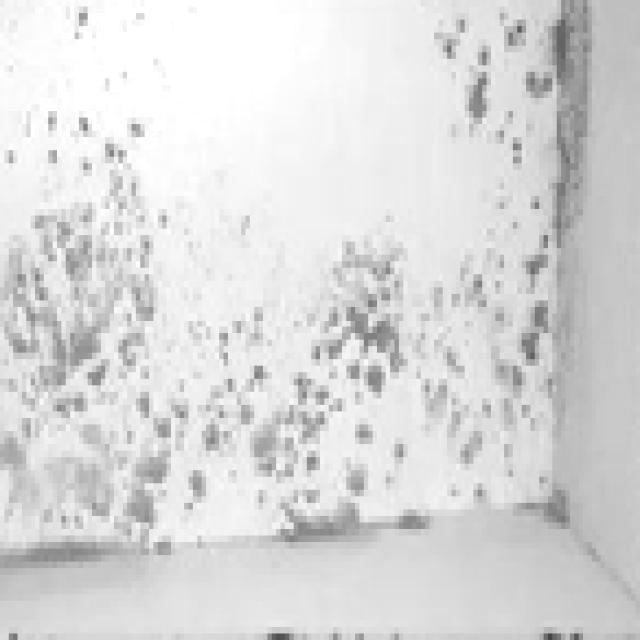stain marks: (408, 0, 600, 529), (4, 0, 176, 555), (180, 202, 403, 542)
